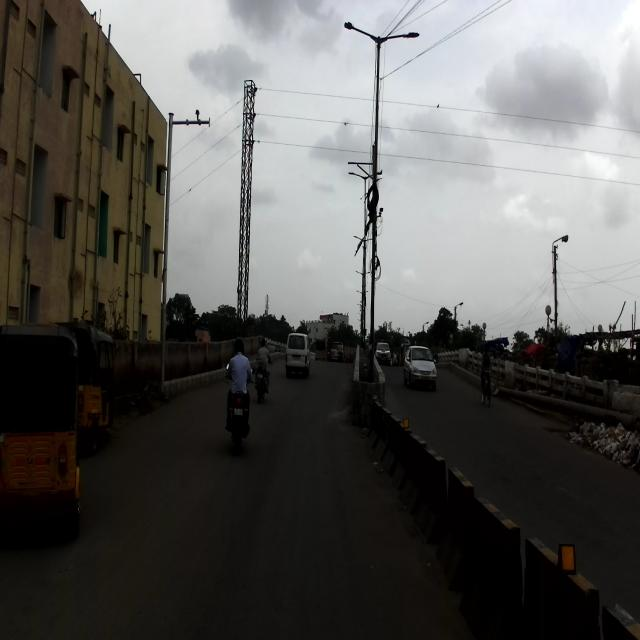autorickshaw: (0, 321, 82, 541), (54, 320, 117, 456)
motorcycle: (224, 360, 255, 454)
